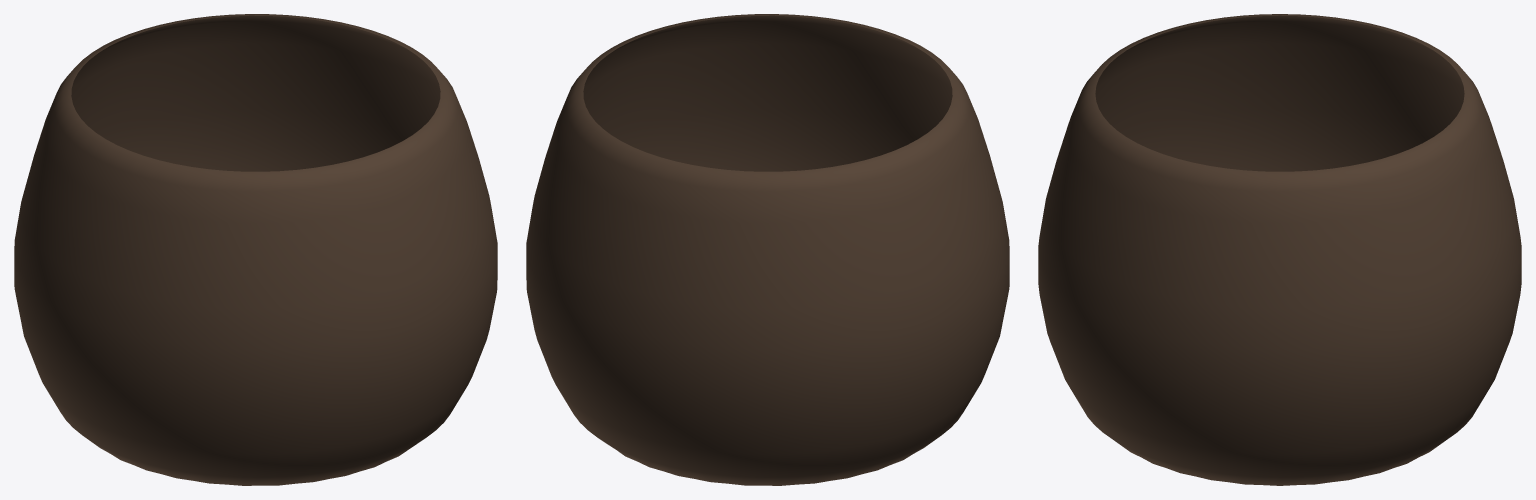
Rendered from cauldron2.fbx.
3 views of the same model, side by side, from view 1: azimuth 30°, elevation 25°; view 2: azimuth 150°, elevation 25°; view 3: azimuth 270°, elevation 25° (orthographic).
Visible parts, largest first — view 1: Spell Pot; view 2: Spell Pot; view 3: Spell Pot.
Boxes of the visible parts, box(x1,y1,x2,y2) form: Spell Pot: box(14, 14, 497, 485); Spell Pot: box(526, 14, 1009, 485); Spell Pot: box(1038, 14, 1521, 485).
Size of the model in its own units: 249 by 186 by 249.
